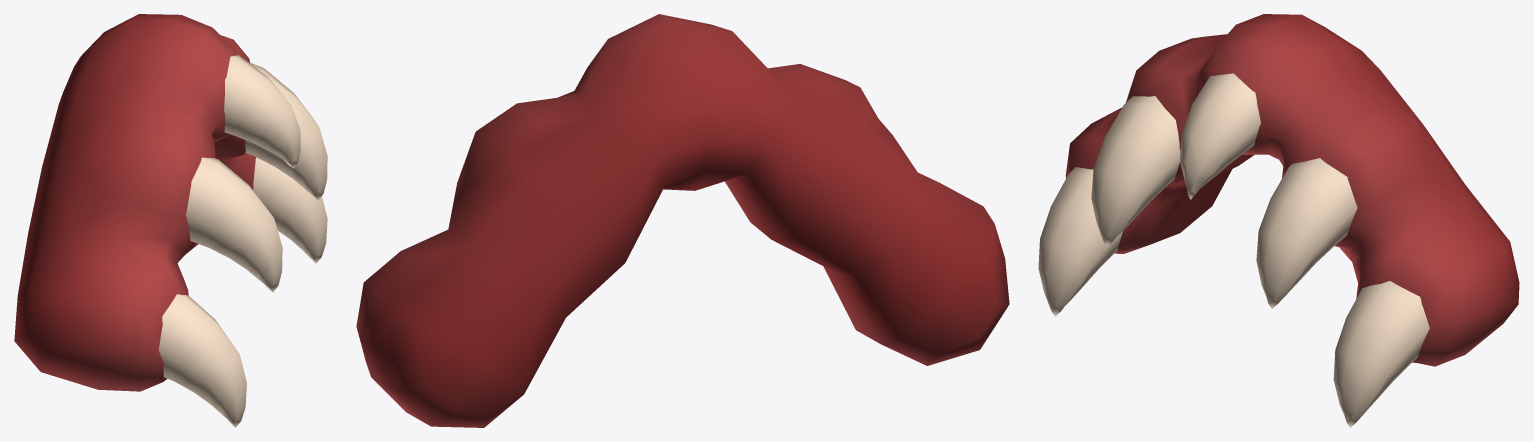
The picture shows the model from 3 angles, left to right: view 1: azimuth 30°, elevation 25°; view 2: azimuth 150°, elevation 25°; view 3: azimuth 270°, elevation 25°; orthographic projection. The views are drawn at different scales.
Parts seen in each view (by area): view 1: model_1.084; view 2: model_1.084; view 3: model_1.084.
Boxes of the visible parts, x1,y1,x2,y2 form: model_1.084: (14, 14, 327, 427); model_1.084: (356, 14, 1009, 427); model_1.084: (1038, 14, 1519, 427).
Size of the model in its own units: 4.81 by 3.62 by 5.02.
